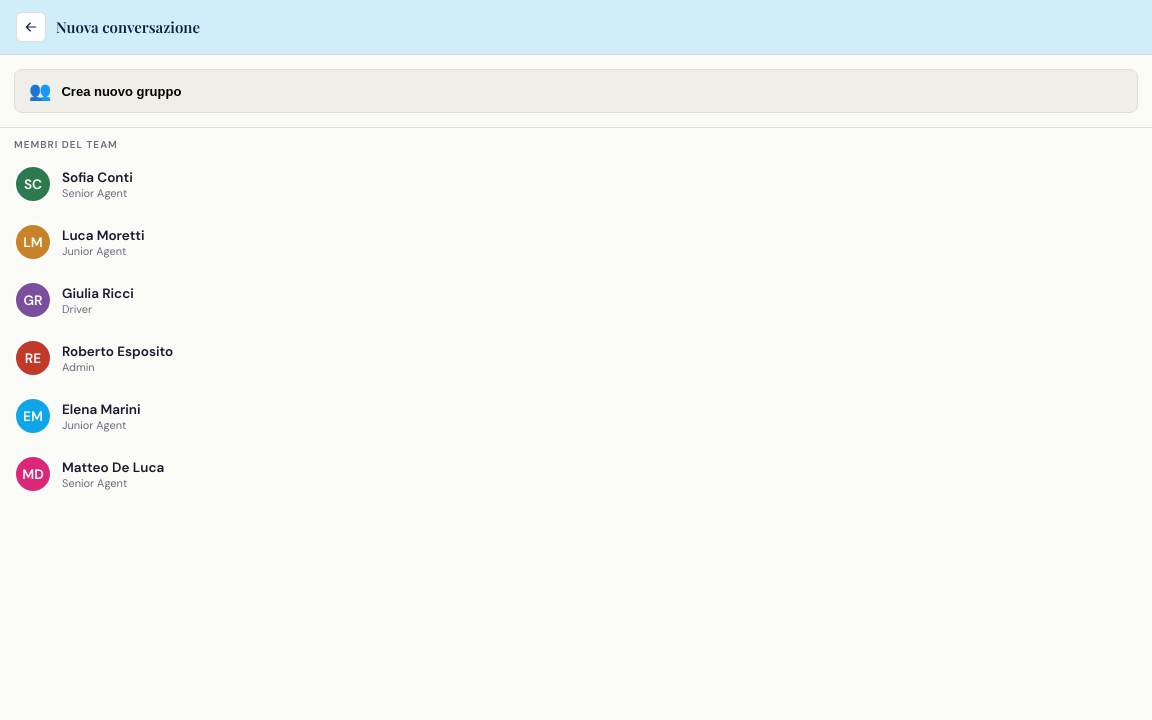
it: NewConversationView — le due condizioni del gruppo, dette una per una › col nome compilato dice l'ALTRA condizione: servono due membri
Click the button "👥 Crea nuovo gruppo" at (121, 91), box top-left (14, 69), bottom-right (1138, 113)
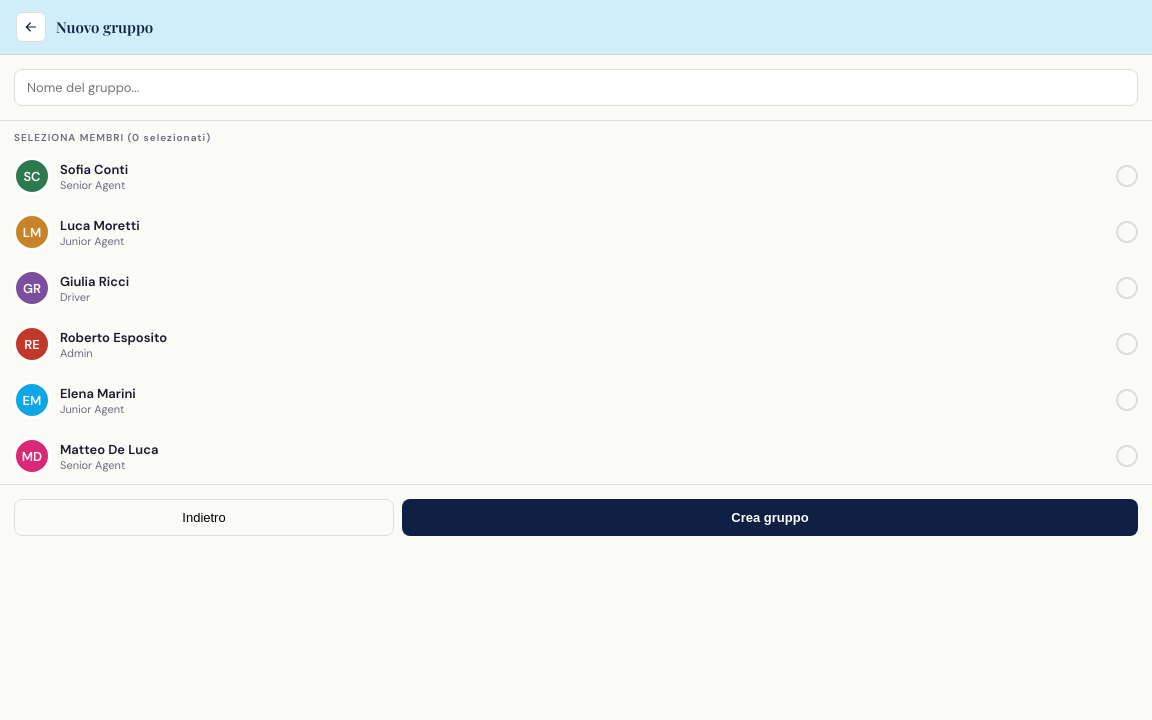
Type "Operativo" into the field with placeholder "Nome del gruppo..." at (576, 88), box top-left (14, 69), bottom-right (1138, 106)
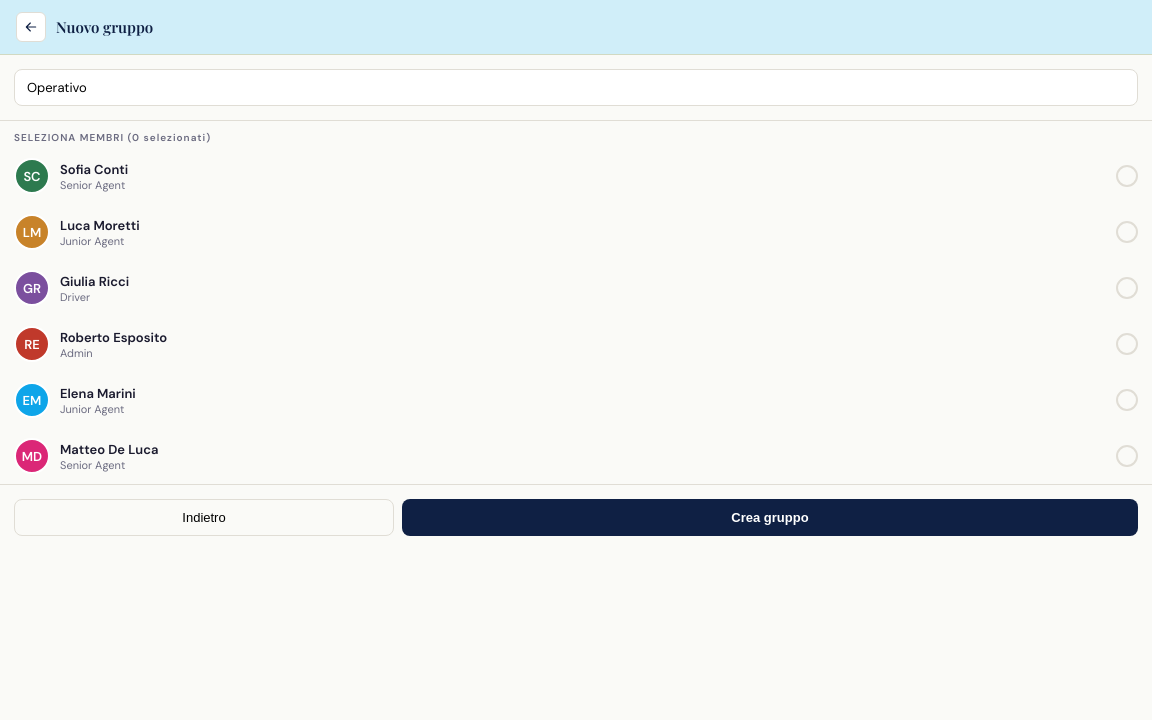
Click the button "Crea gruppo" at (770, 518), box top-left (402, 499), bottom-right (1138, 536)
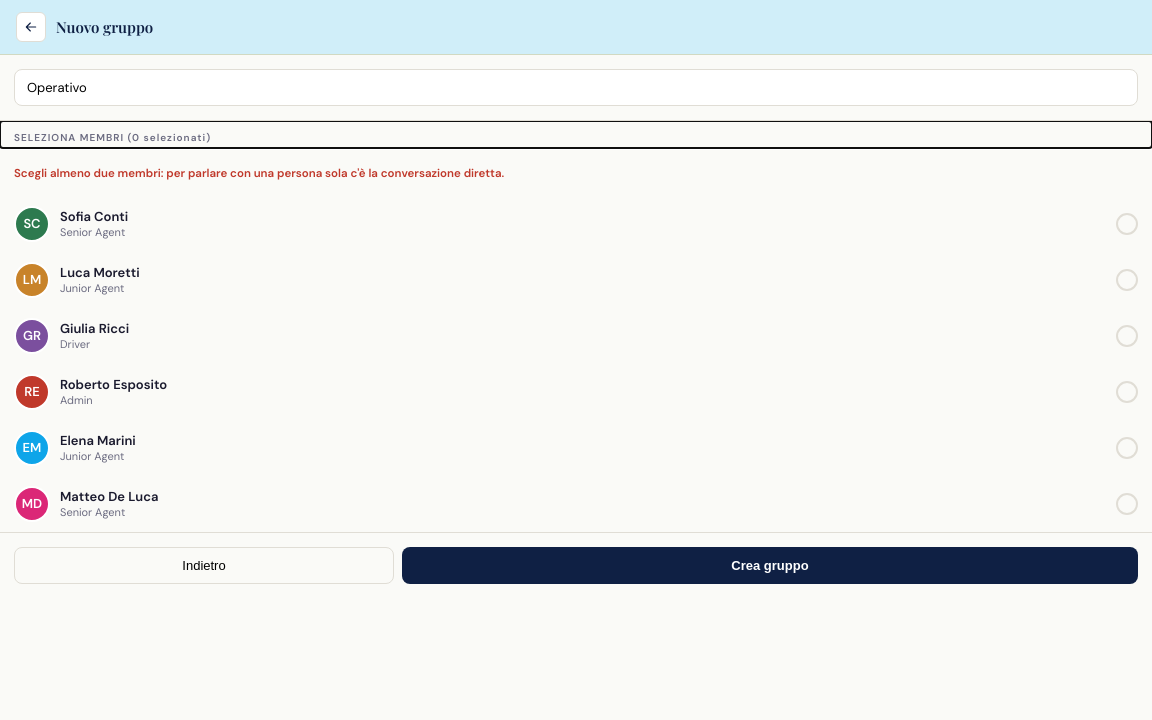
Now the message shows "almeno due membri", box top-left (14, 166), bottom-right (504, 181)
